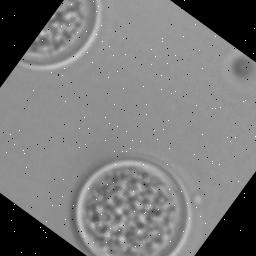picoshell: (70, 155, 192, 256), (16, 0, 102, 70)
